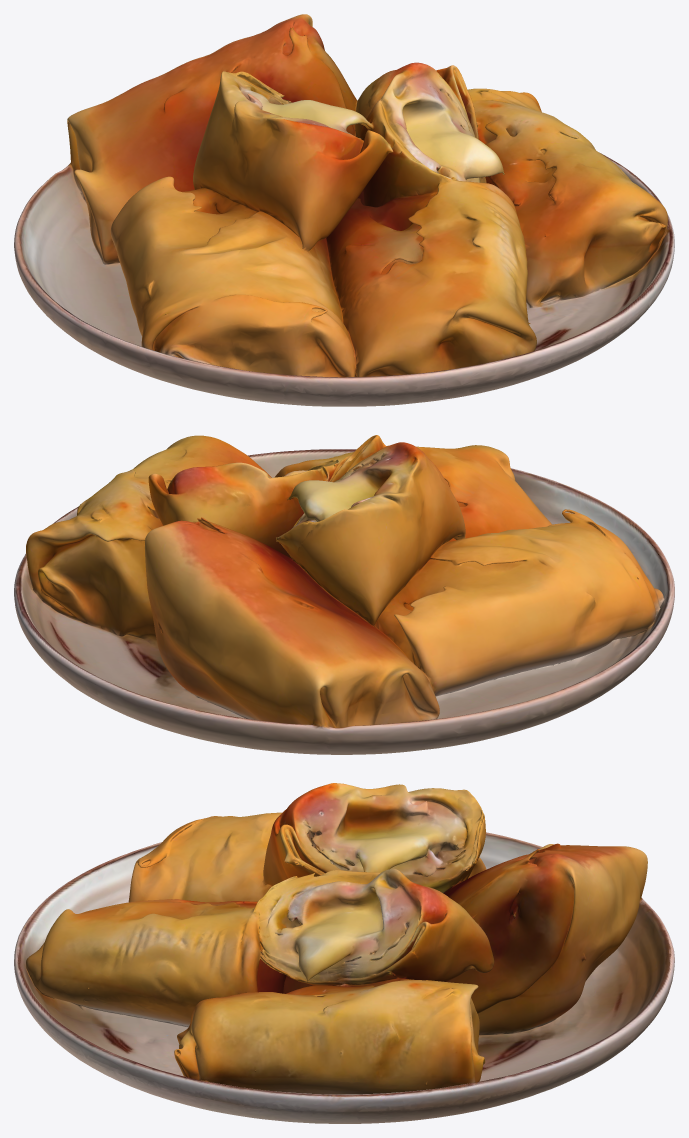
File: dimsum-3d.glb
3 renders of one model, top to bottom at view 1: azimuth 30°, elevation 25°; view 2: azimuth 150°, elevation 25°; view 3: azimuth 270°, elevation 25°, orthographic.
Parts seen in each view (by area): view 1: tripo_node_65d9a87e-fd34-4e8a-9c78-7f58a011374d; view 2: tripo_node_65d9a87e-fd34-4e8a-9c78-7f58a011374d; view 3: tripo_node_65d9a87e-fd34-4e8a-9c78-7f58a011374d.
Boxes of the visible parts, x1,y1,x2,y2 form: tripo_node_65d9a87e-fd34-4e8a-9c78-7f58a011374d: (14,14,674,406); tripo_node_65d9a87e-fd34-4e8a-9c78-7f58a011374d: (14,435,674,754); tripo_node_65d9a87e-fd34-4e8a-9c78-7f58a011374d: (14,783,674,1123).
Bounding box in the file's own units: 0.979 × 0.3153 × 0.9795.
Materials: 1 (1 with a texture image).
